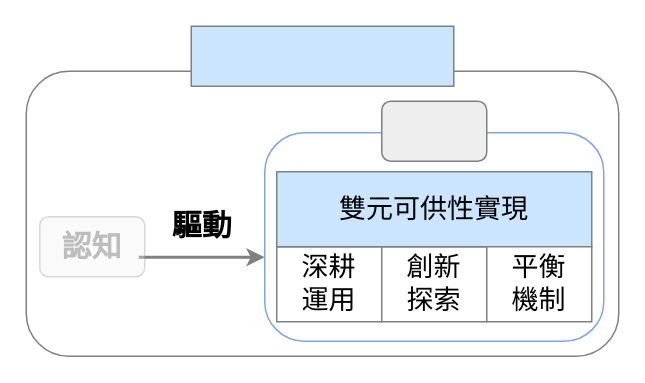
The diagram is 645 pixels wide and 383 high, and some of its shapes have lost their labels. The shapes that lost their labels are listed below. From the top down, each one's box as (x1, y1, x2, y2) in pixels, then its label:
(190, 25, 454, 86): 科技可供性制定
(380, 100, 487, 161): 行動
